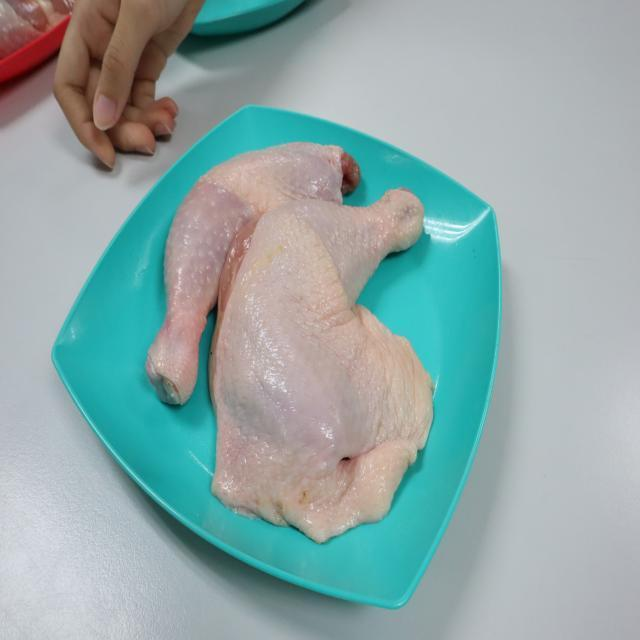quater: (232, 188, 448, 528), (134, 108, 364, 384)
